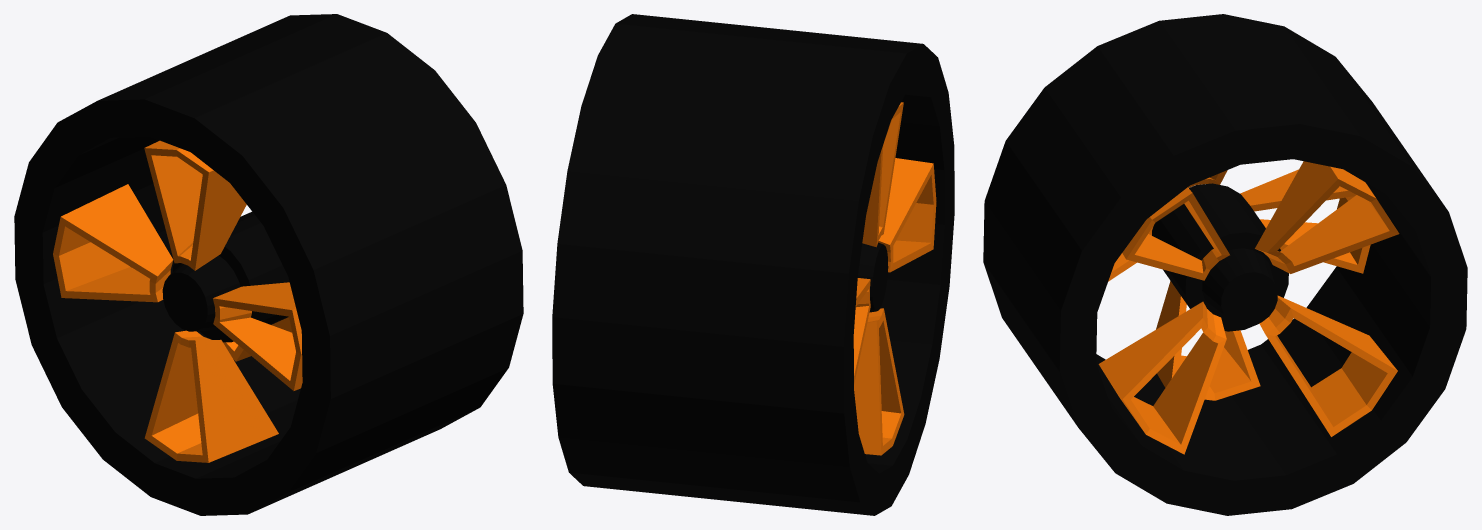
Rendered from car_new_koleso_lave.fbx.
The picture shows the model from 3 angles, left to right: view 1: azimuth 30°, elevation 25°; view 2: azimuth 150°, elevation 25°; view 3: azimuth 270°, elevation 25°; orthographic projection. The views are drawn at different scales.
Parts seen in each view (by area): view 1: Plane.009; view 2: Plane.009; view 3: Plane.009.
Part boxes in pixels (left/top/right/bottom): Plane.009: left=14, top=14, right=523, bottom=515; Plane.009: left=552, top=14, right=954, bottom=515; Plane.009: left=983, top=14, right=1467, bottom=515.
Size of the model in its own units: 103 by 115 by 131.
